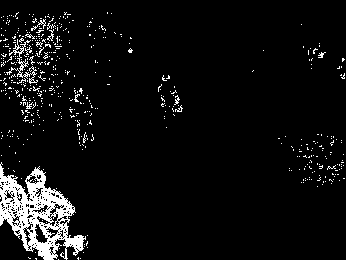person: (154, 70, 186, 130), (69, 87, 99, 147)
